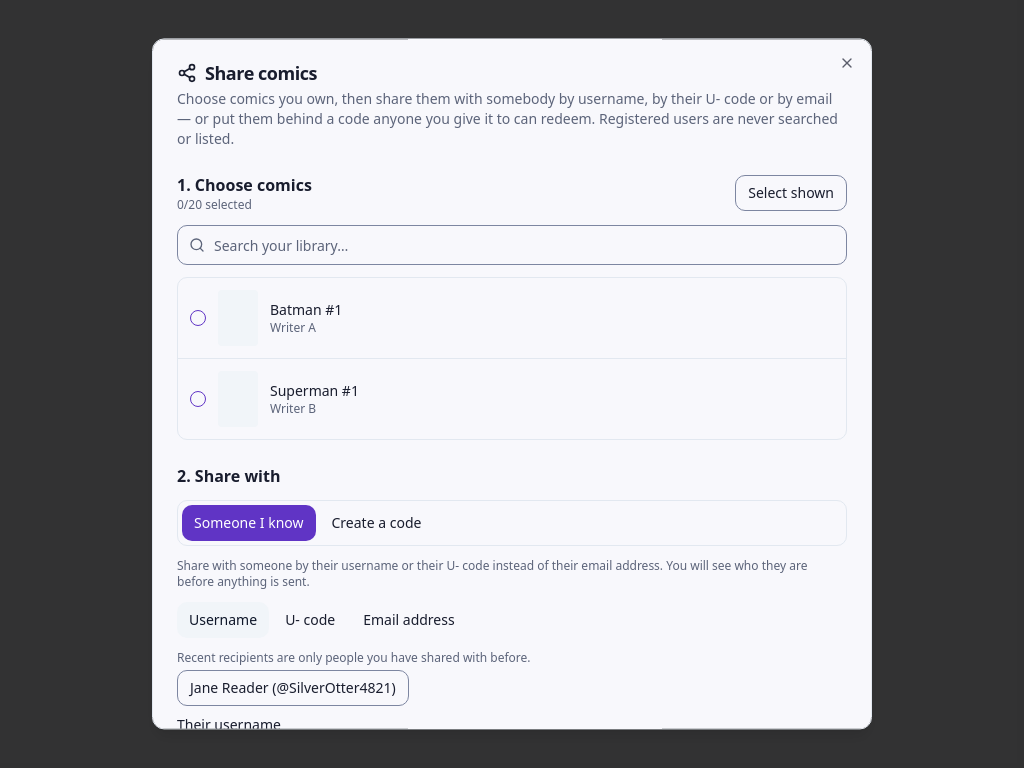
Test: ShareComicsDialog › accepts an identity the caller already has
Expected: the text "Batman #1" is shown, [270,300,342,319]
Click the checkbox named "Select Batman #1" at (198, 318), box [190,310,206,326]
(page scrolled)
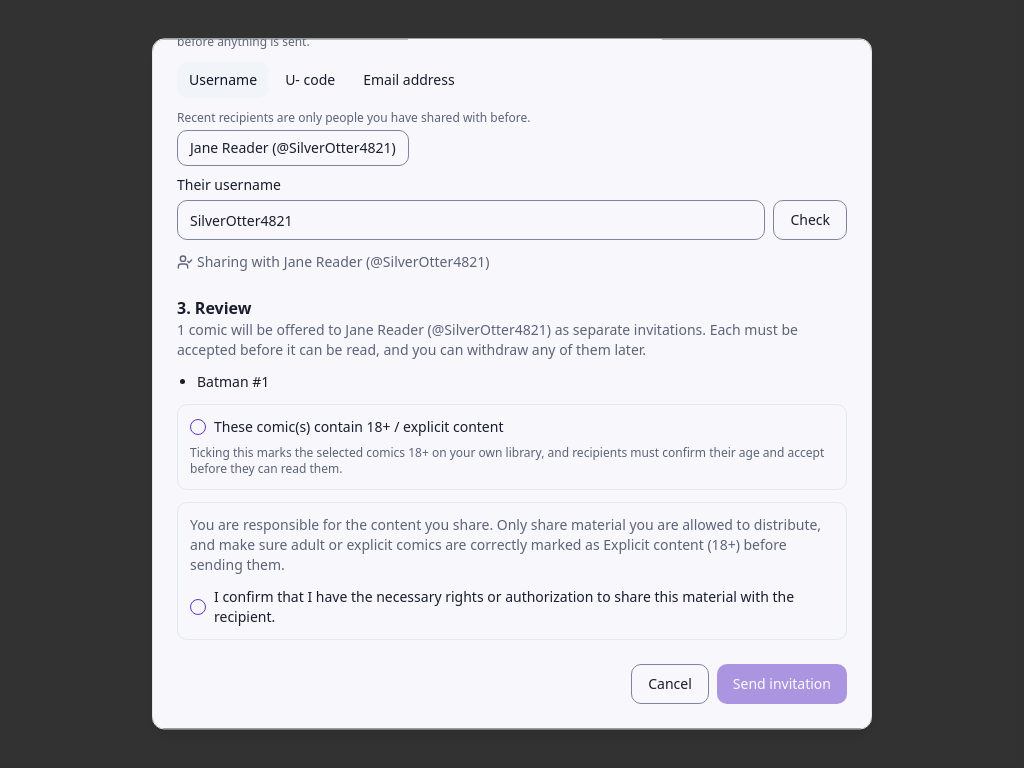
Click the 2nd checkbox named "I confirm that I have the necessary rights" at (198, 607), box [190,599,206,615]
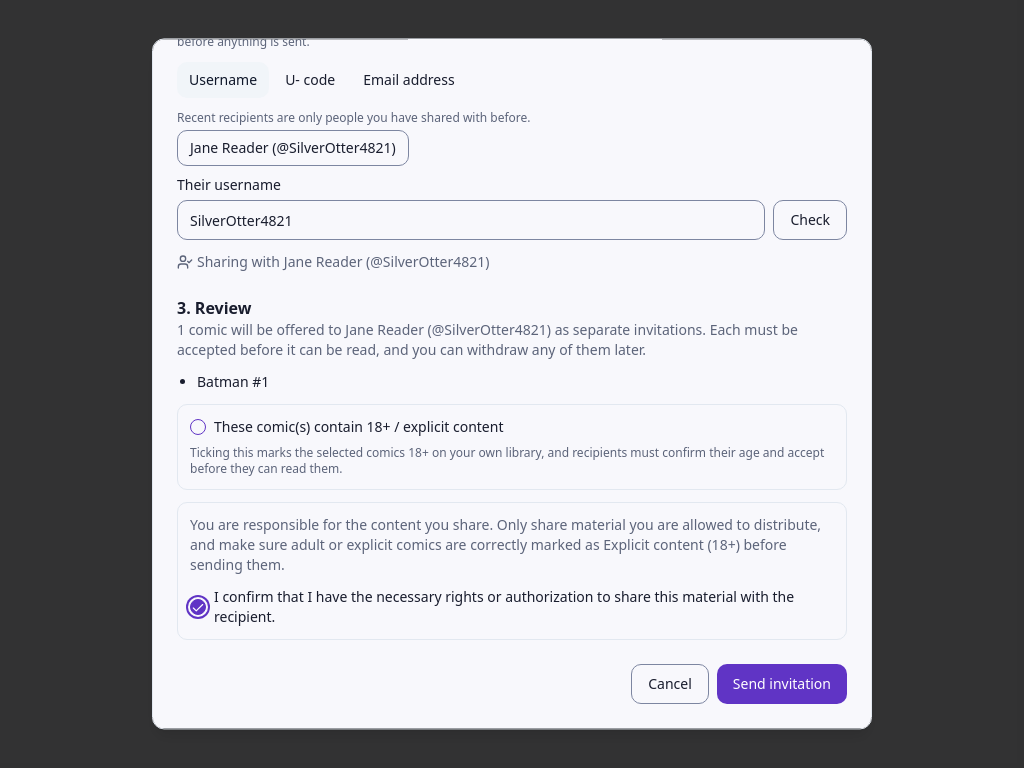
Expected: the text "Sharing with Jane Reader (@SilverOtter4821)" is shown, [177,252,490,271]
Expected: the button "Send invitation" is enabled, [717,664,847,704]
